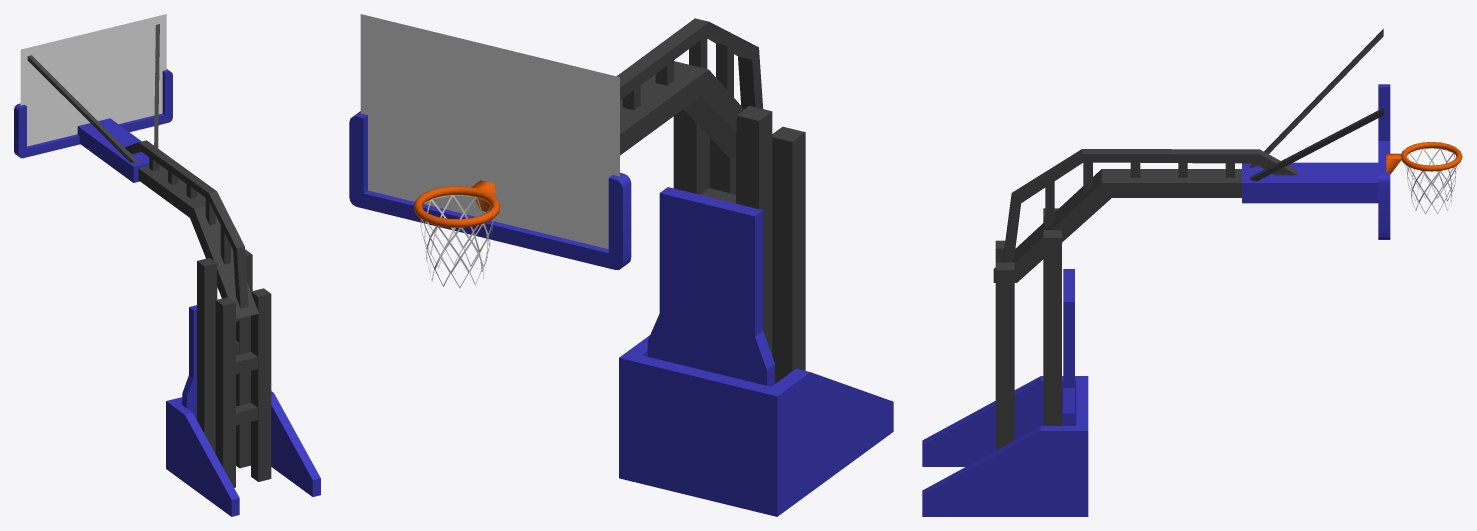
Rendered from hoop_v1.fbx.
3 renders of one model, left to right at view 1: azimuth 30°, elevation 25°; view 2: azimuth 150°, elevation 25°; view 3: azimuth 270°, elevation 25°, orthographic. The views are drawn at different scales.
Visible parts, largest first — view 1: Plane, Cube.003, Cube.006, Cube.009, Cube.002, Cube.012, Cube, Cube.001, Cube.011, Cube.010, Cube.004, Cube.005; view 2: Plane, Cube.006, Cube.010, Cube.003, Cube, Cube.009, Cube.002, Cube.012, Board, Board.001, Board.002, Cube.017; view 3: Cube.006, Cube.002, Cube.001, Cube.012, Cube.003, Cube.009, Cube.011, Cube.010, Cube, Board.
Boxes of the visible parts, left/top/right/bottom form: Plane: left=20, top=14, right=166, bottom=146; Cube.003: left=215, top=288, right=271, bottom=487; Cube.006: left=166, top=391, right=320, bottom=516; Cube.009: left=197, top=249, right=252, bottom=468; Cube.002: left=138, top=165, right=259, bottom=318; Cube.012: left=124, top=140, right=248, bottom=308; Cube: left=14, top=69, right=172, bottom=158; Cube.001: left=77, top=118, right=149, bottom=182; Cube.011: left=27, top=24, right=159, bottom=163; Cube.010: left=182, top=305, right=196, bottom=419; Cube.004: left=236, top=352, right=257, bottom=374; Cube.005: left=236, top=403, right=257, bottom=425; Plane: left=360, top=14, right=619, bottom=248; Cube.006: left=619, top=335, right=893, bottom=516; Cube.010: left=647, top=187, right=774, bottom=386; Cube.003: left=710, top=126, right=805, bottom=383; Cube: left=349, top=111, right=631, bottom=269; Cube.009: left=673, top=105, right=772, bottom=355; Cube.002: left=620, top=61, right=744, bottom=158; Cube.012: left=617, top=18, right=763, bottom=108; Board: left=413, top=180, right=500, bottom=227; Board.001: left=420, top=195, right=494, bottom=257; Board.002: left=424, top=230, right=489, bottom=288; Cube.017: left=716, top=43, right=733, bottom=97; Cube.006: left=922, top=376, right=1088, bottom=516; Cube.002: left=993, top=169, right=1241, bottom=282; Cube.001: left=1242, top=162, right=1382, bottom=203; Cube.012: left=1002, top=149, right=1297, bottom=262; Cube.003: left=995, top=240, right=1014, bottom=450; Cube.009: left=1043, top=208, right=1061, bottom=425; Cube.011: left=1250, top=29, right=1383, bottom=181; Cube.010: left=1063, top=269, right=1074, bottom=425; Cube: left=1378, top=84, right=1390, bottom=239; Board: left=1386, top=142, right=1462, bottom=174.
Size of the model in its own units: 190 by 401 by 456.
